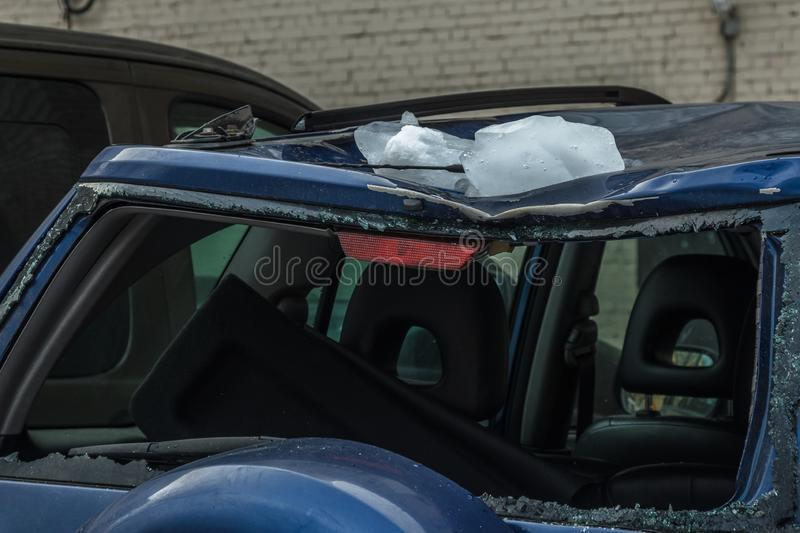Rear-windscreen-Damage: (0, 169, 799, 510)
roof-dent: (74, 74, 799, 184)
